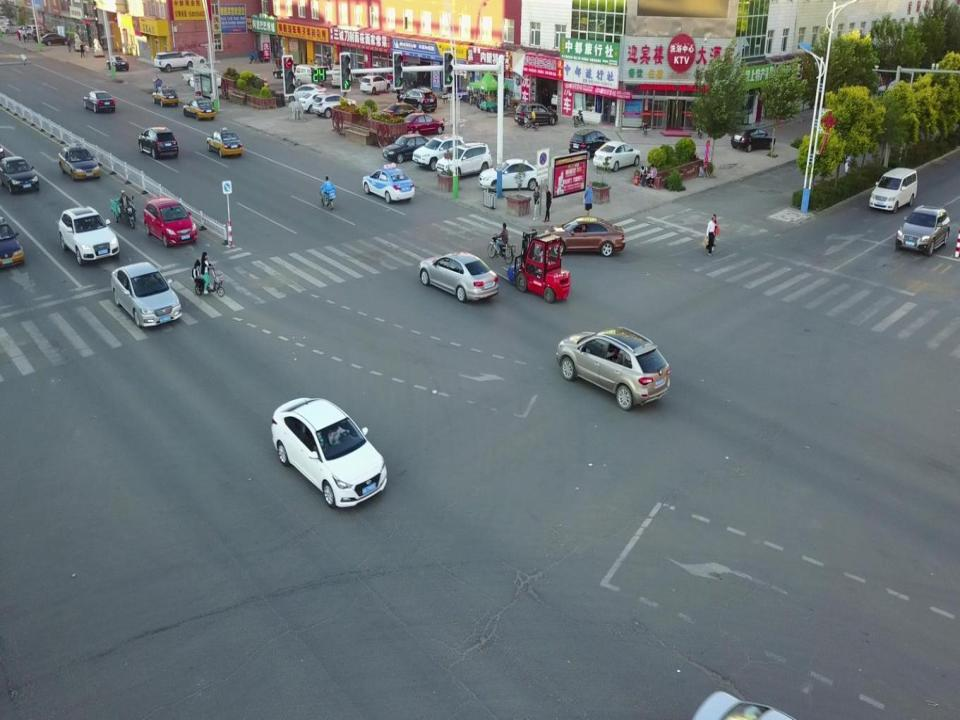car: (270, 396, 388, 508), (558, 326, 670, 411), (109, 260, 183, 328), (419, 251, 499, 303), (57, 204, 120, 266), (541, 216, 625, 256), (142, 195, 198, 247), (895, 204, 950, 256), (435, 141, 492, 181), (478, 158, 542, 192), (362, 162, 415, 203), (412, 133, 466, 170), (383, 132, 437, 166), (58, 142, 101, 180), (592, 140, 642, 172), (0, 155, 40, 194), (568, 128, 613, 160), (137, 126, 179, 160), (396, 113, 445, 139), (730, 126, 776, 153), (206, 126, 244, 158), (312, 93, 356, 119), (380, 102, 421, 128), (399, 86, 437, 114), (514, 102, 558, 126), (297, 90, 339, 114), (182, 95, 216, 121), (153, 51, 194, 72), (286, 83, 328, 103), (82, 89, 115, 114), (190, 71, 230, 90), (272, 61, 308, 79), (151, 85, 179, 107), (359, 75, 391, 94), (174, 50, 206, 69), (106, 54, 129, 72), (40, 33, 68, 46), (31, 28, 54, 42)
truck: (181, 64, 214, 86)
van: (869, 168, 918, 214), (294, 63, 322, 86), (330, 64, 348, 88)
